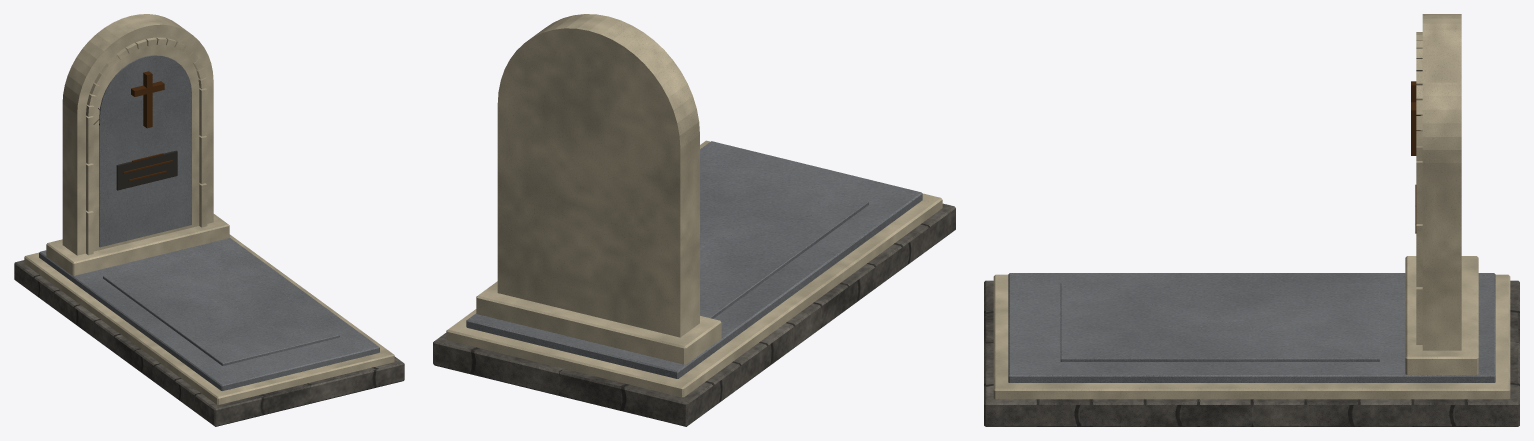
File: tumba_01_lapida_simple.obj
The picture shows the model from 3 angles, left to right: view 1: azimuth 30°, elevation 25°; view 2: azimuth 150°, elevation 25°; view 3: azimuth 270°, elevation 25°; orthographic projection. The views are drawn at different scales.
Visible parts, largest first — view 1: Tumba_01_Lapida_Simple; view 2: Tumba_01_Lapida_Simple; view 3: Tumba_01_Lapida_Simple.
Part boxes in pixels (x1,y1,x2,y2): Tumba_01_Lapida_Simple: [14, 14, 404, 426]; Tumba_01_Lapida_Simple: [433, 14, 955, 426]; Tumba_01_Lapida_Simple: [984, 14, 1519, 426].
Size of the model in its own units: 1.2 by 1.55 by 2.2.
Materials: 5 (3 with a texture image).
